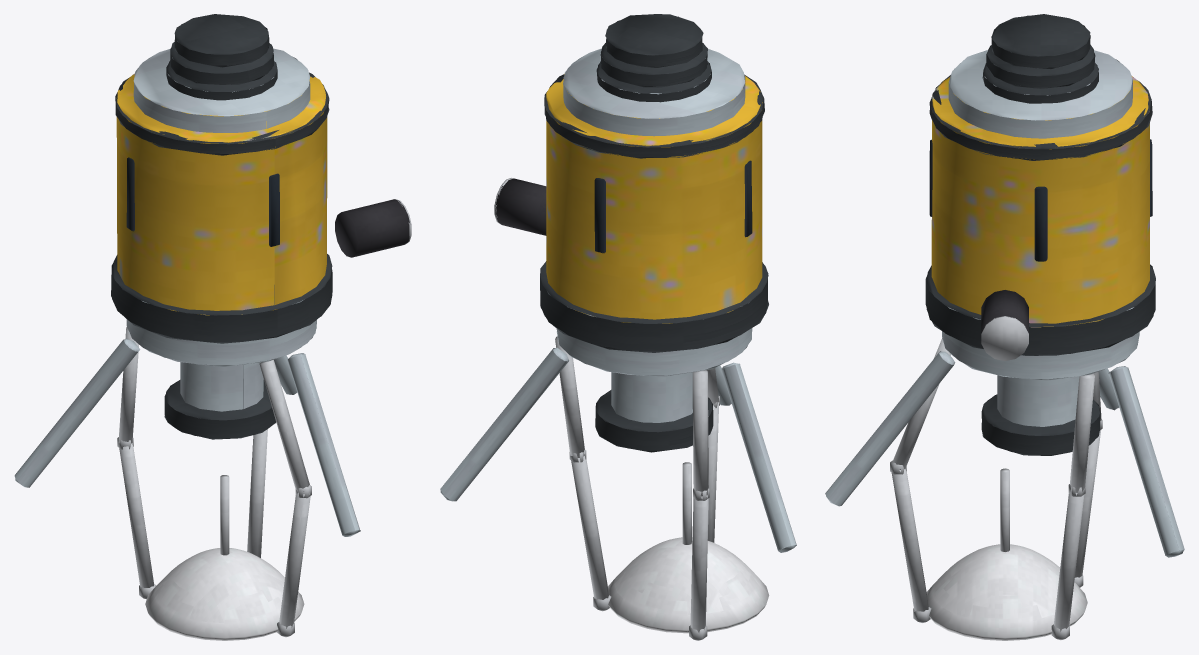
The model's file is claw_flash.glb.
The picture shows the model from 3 angles, left to right: view 1: azimuth 30°, elevation 25°; view 2: azimuth 150°, elevation 25°; view 3: azimuth 270°, elevation 25°; orthographic projection. The views are drawn at different scales.
Parts seen in each view (by area): view 1: Hand, Jaw0, Jaw2, Jaw1; view 2: Hand, Jaw2, Jaw1, Jaw0; view 3: Hand, Jaw1, Jaw0, Jaw2.
Boxes of the visible parts, x1,y1,x2,y2 form: Hand: [14, 14, 411, 640]; Jaw0: [259, 359, 311, 637]; Jaw2: [117, 327, 156, 599]; Jaw1: [247, 379, 267, 557]; Hand: [440, 14, 796, 633]; Jaw2: [689, 370, 709, 640]; Jaw1: [555, 336, 611, 611]; Jaw0: [706, 368, 719, 542]; Hand: [825, 14, 1184, 640]; Jaw1: [1051, 373, 1094, 640]; Jaw0: [890, 338, 951, 622]; Jaw2: [1074, 371, 1102, 587].
Bounding box in the file's own units: 0.8208 × 1.33 × 0.7402.
Materials: 8 (7 with a texture image).
